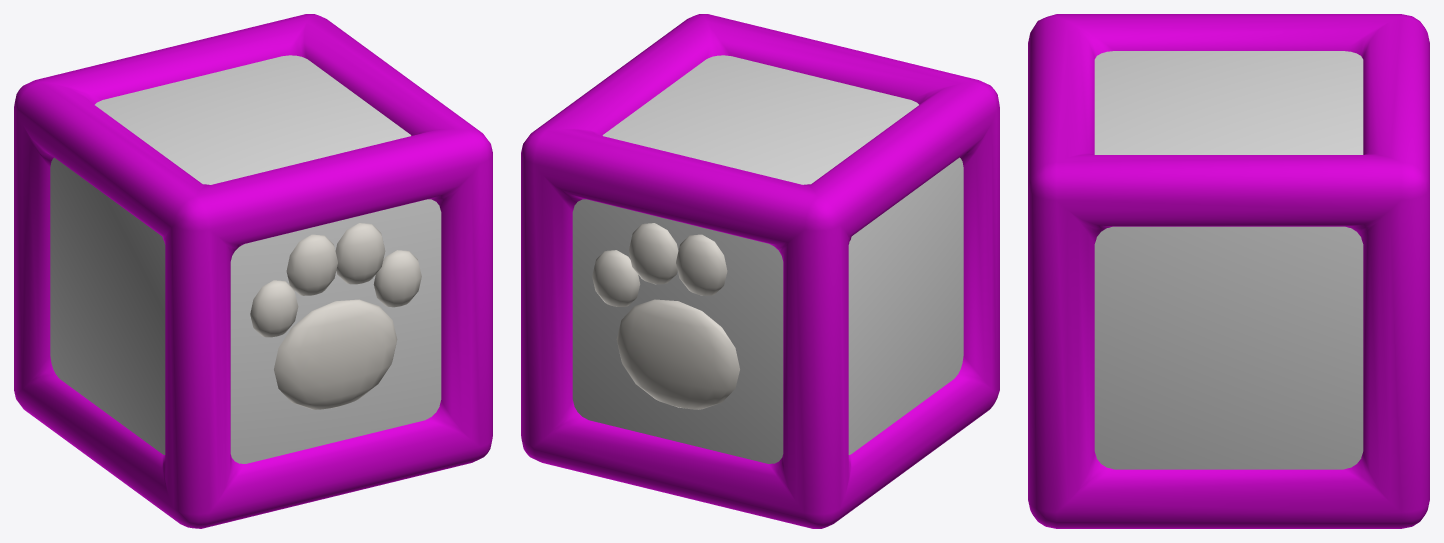
The model's file is kup3.glb.
3 renders of one model, left to right at view 1: azimuth 30°, elevation 25°; view 2: azimuth 150°, elevation 25°; view 3: azimuth 270°, elevation 25°, orthographic. The views are drawn at different scales.
Parts seen in each view (by area): view 1: kup3; view 2: kup3; view 3: kup3.
Boxes of the visible parts, x1,y1,x2,y2 form: kup3: (14, 14, 492, 528); kup3: (521, 14, 999, 528); kup3: (1028, 14, 1429, 528).
Bounding box in the file's own units: 1.55 × 1.55 × 1.55.
